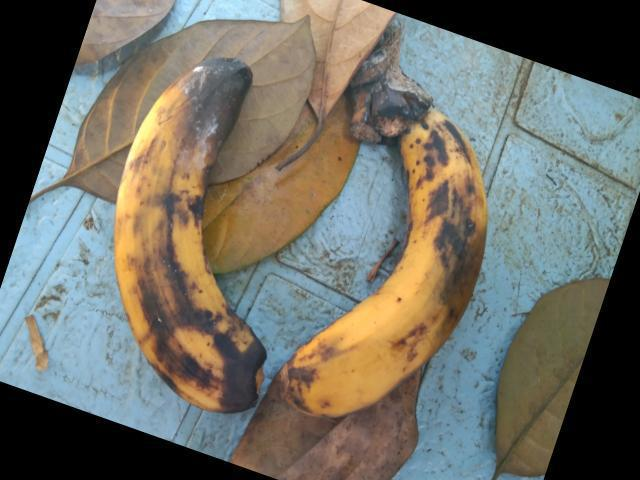overripe: (272, 97, 500, 439), (108, 54, 267, 423)
